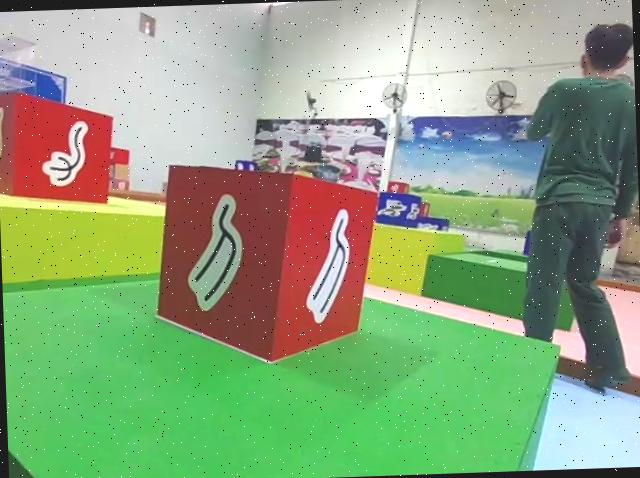R2 Real: (149, 153, 381, 368), (0, 86, 114, 208)
